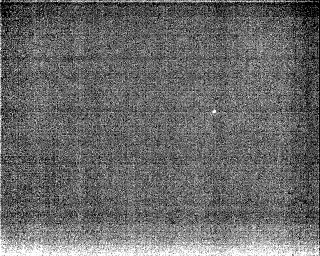BIRD: (211, 107, 218, 117)
